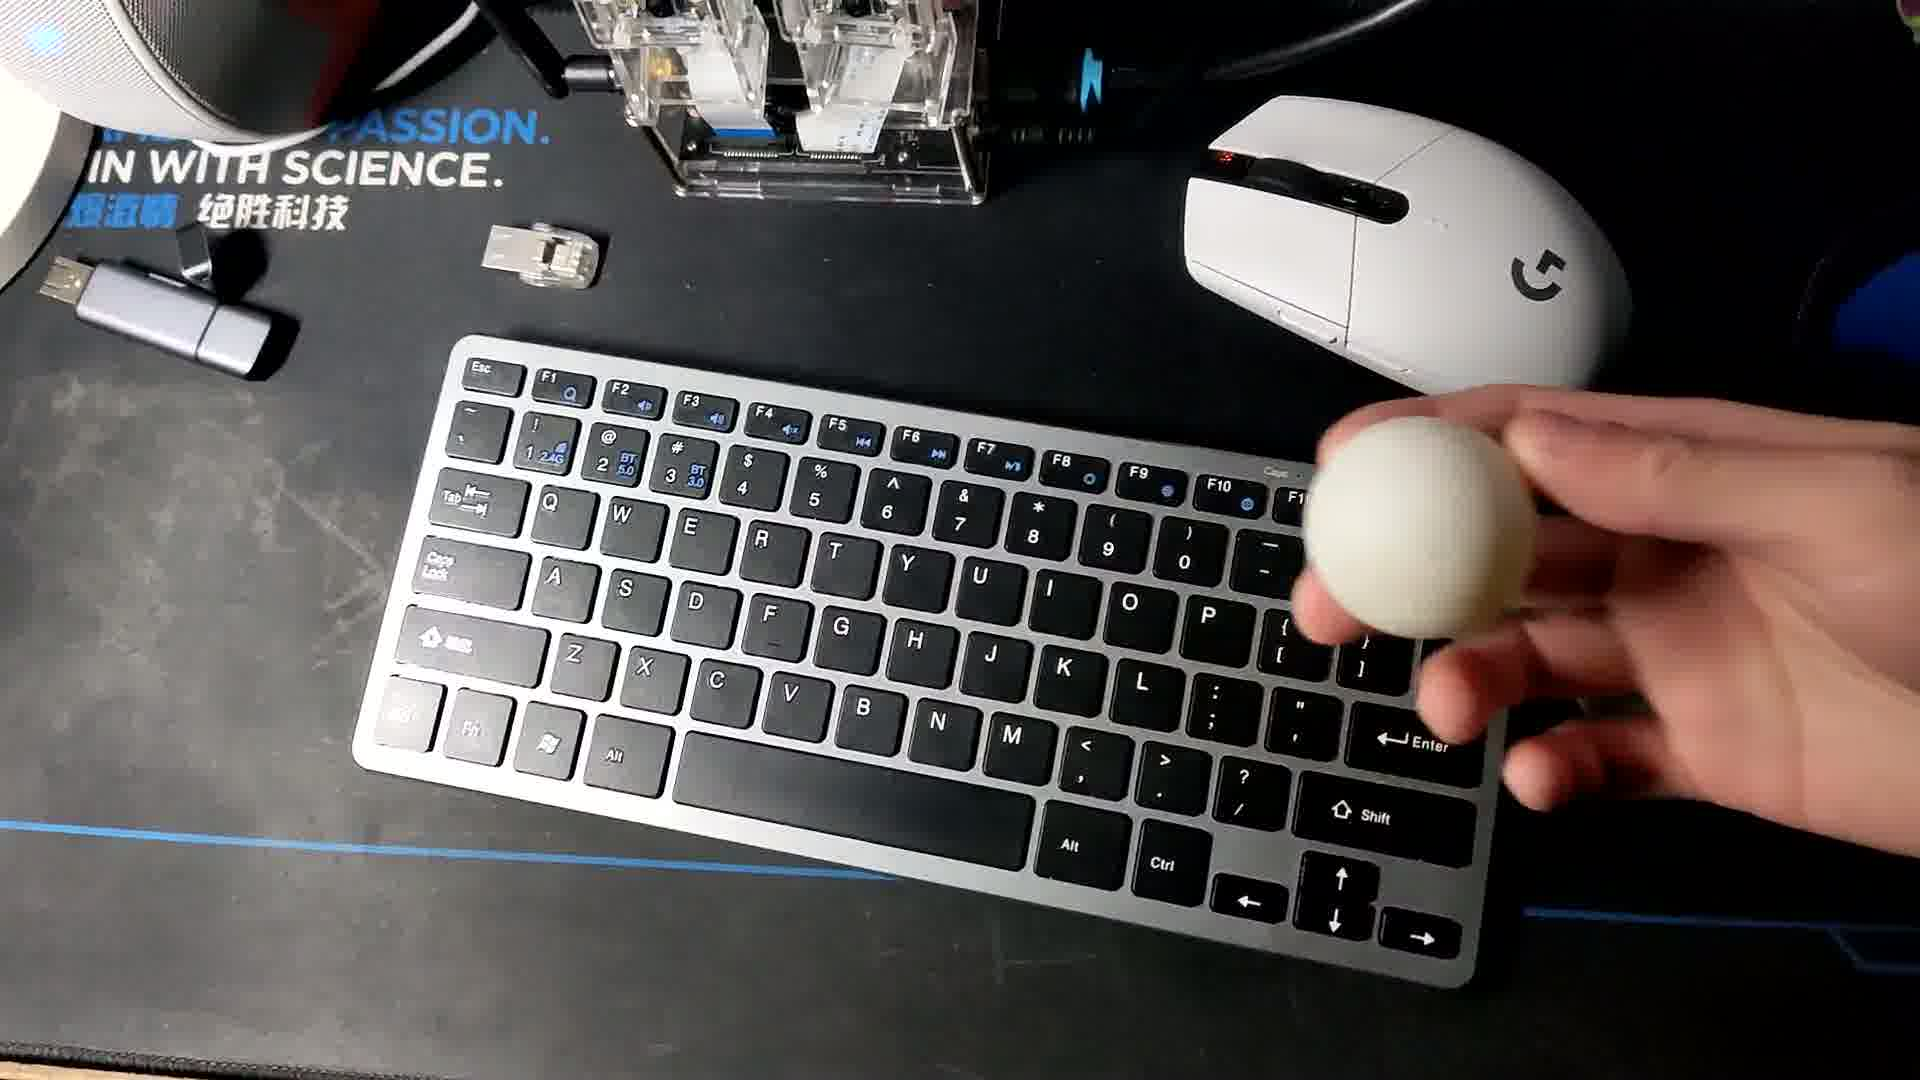Ball: (1305, 417, 1535, 632)
